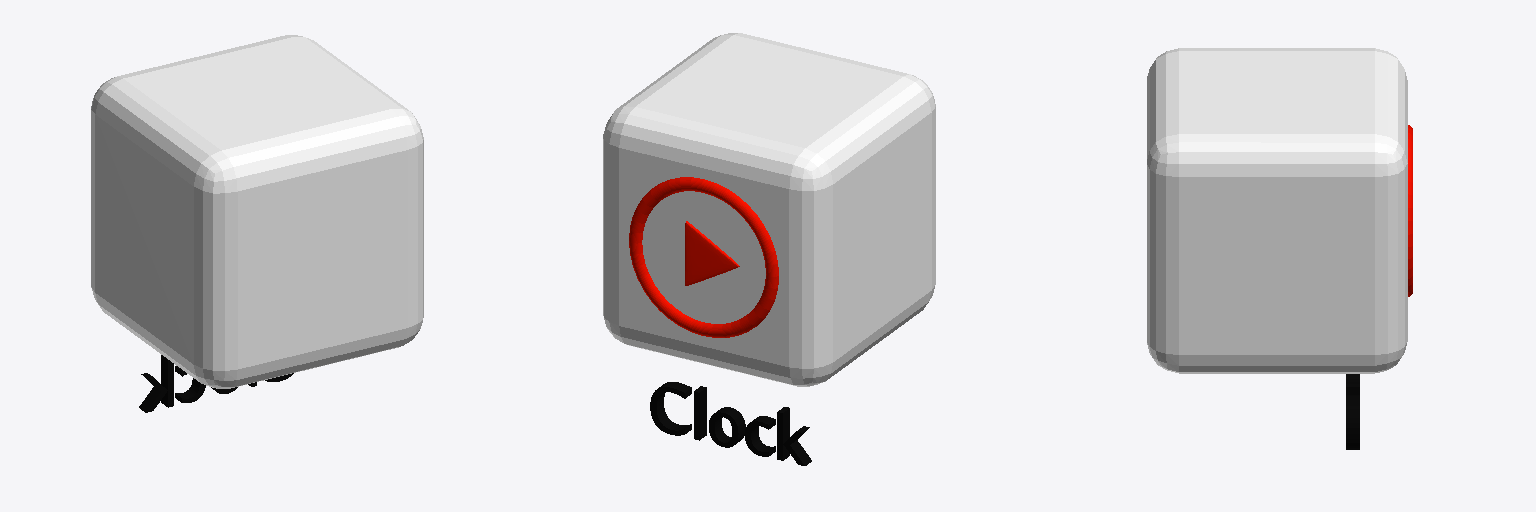
Rendered from Clock.obj.
3 renders of one model, left to right at view 1: azimuth 30°, elevation 25°; view 2: azimuth 150°, elevation 25°; view 3: azimuth 270°, elevation 25°, orthographic.
Parts seen in each view (by area): view 1: Clock; view 2: Clock; view 3: Clock.
Part boxes in pixels (bbox=[...]): Clock: bbox=[91, 35, 423, 412]; Clock: bbox=[603, 33, 935, 465]; Clock: bbox=[1147, 48, 1412, 449].
Size of the model in its own units: 2.83 by 3.91 by 2.9.